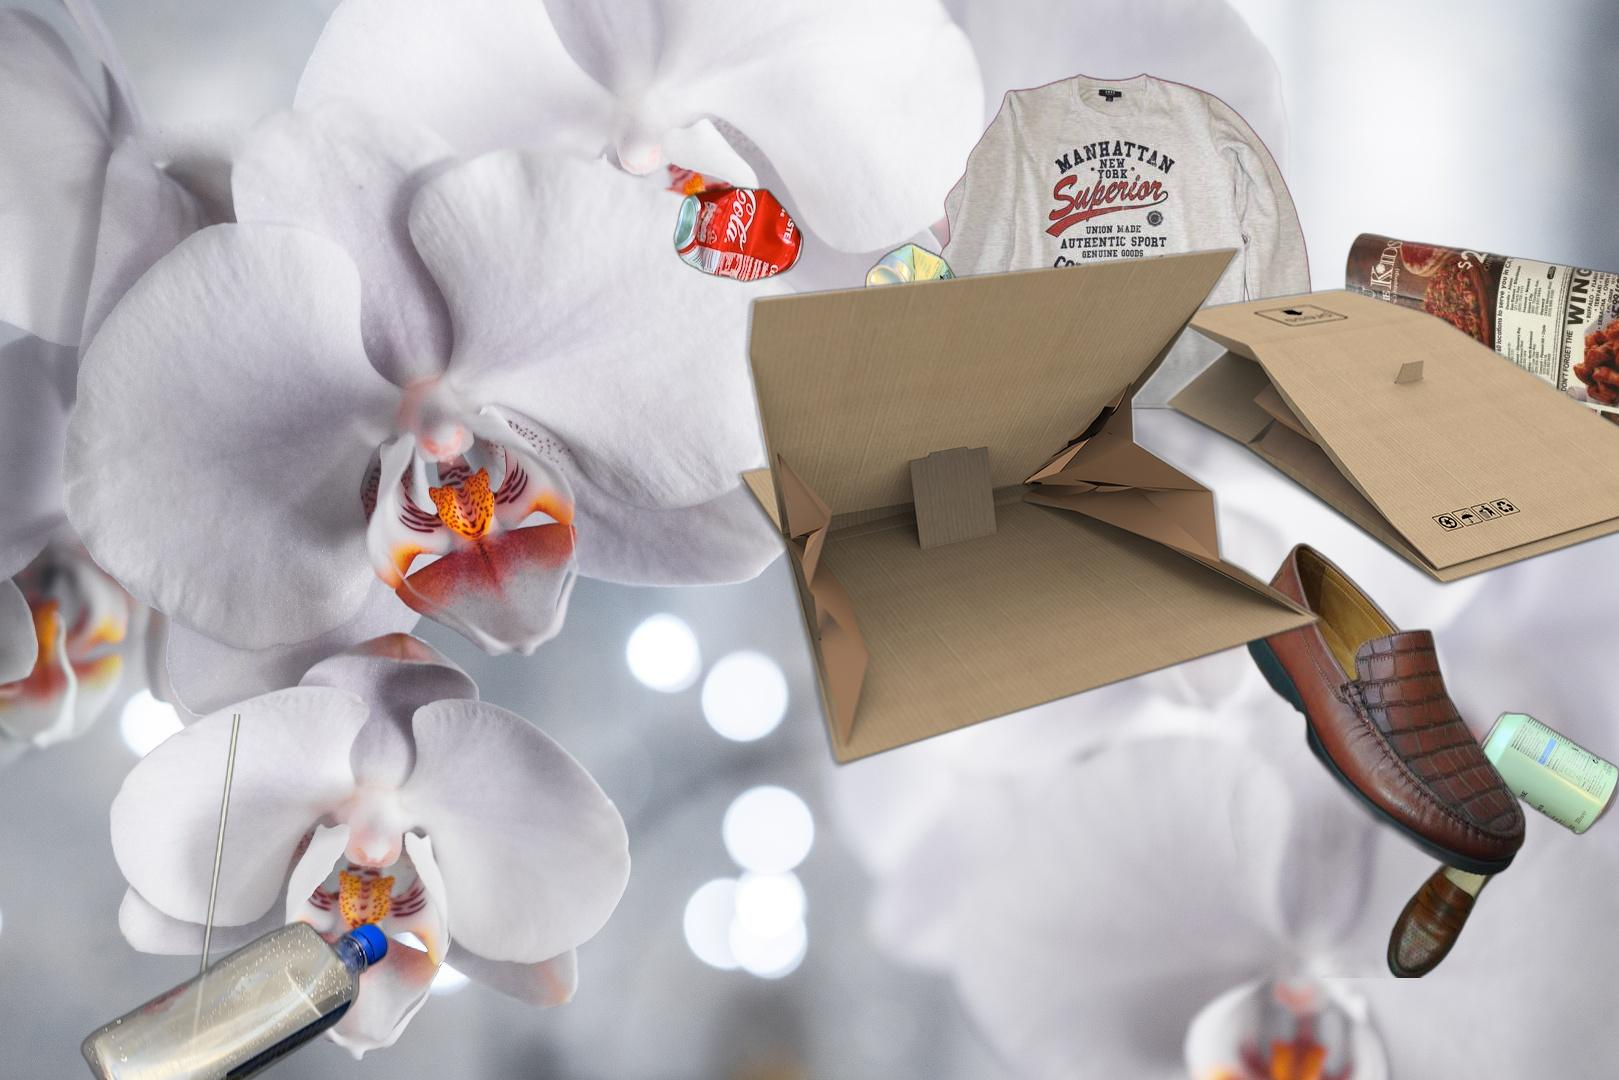clothes: (933, 70, 1316, 422)
metal-cans: (1472, 708, 1619, 840), (670, 181, 806, 288), (861, 237, 967, 347)
paper: (1341, 231, 1619, 507)
plastic-bottles: (77, 714, 401, 1080)
shoes: (1192, 540, 1530, 978)
trashbox-cardboard: (729, 243, 1619, 773)
